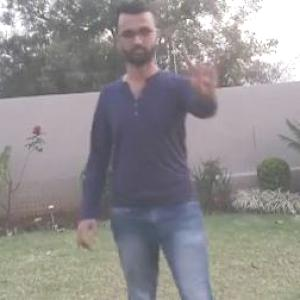takeoff-hand: (182, 45, 229, 100)
